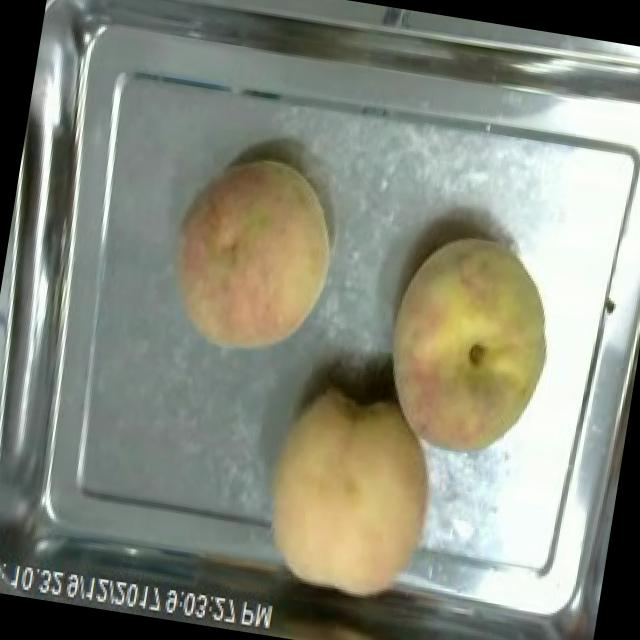Fruit: (244, 374, 458, 620), (366, 220, 572, 470), (152, 143, 354, 371)
